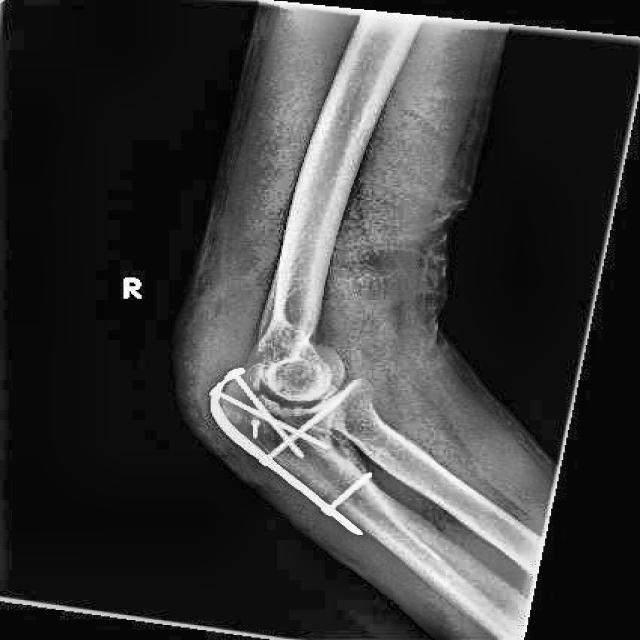elbow positive: (217, 358, 291, 441)
